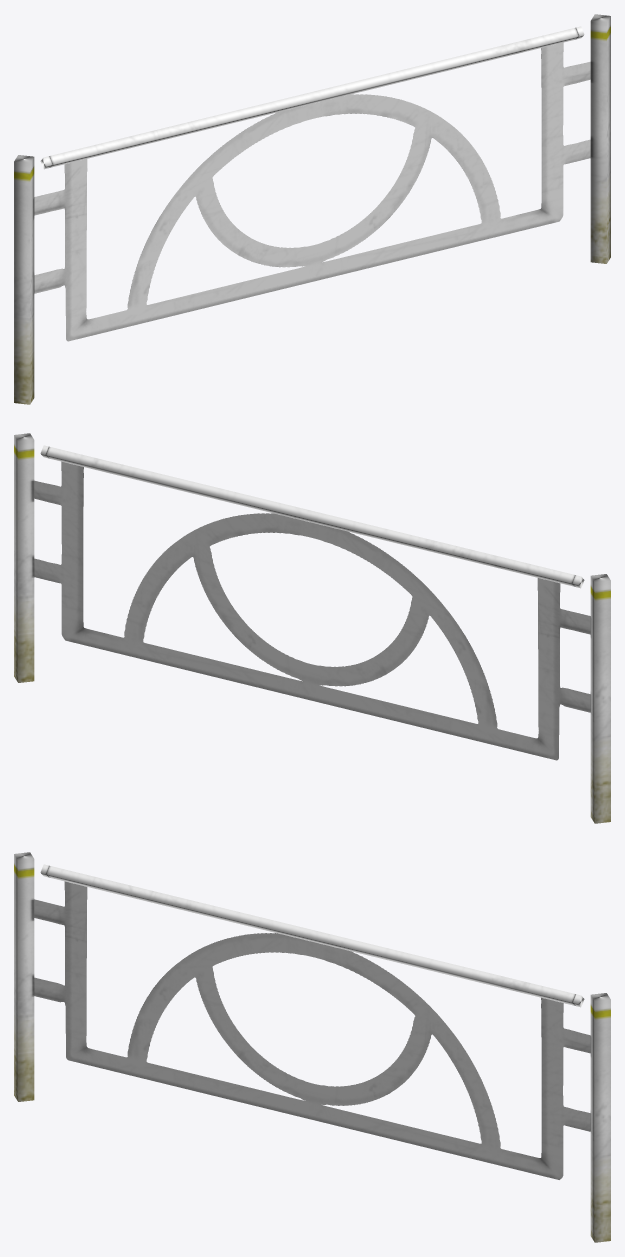
The model's file is guardrail.fbx.
The picture shows the model from 3 angles, top to bottom: view 1: azimuth 30°, elevation 25°; view 2: azimuth 150°, elevation 25°; view 3: azimuth 330°, elevation 25°; orthographic projection.
Visible parts, largest first — view 1: guardrail; view 2: guardrail; view 3: guardrail.
Boxes of the visible parts, <box> form: guardrail: <box>14,14,610,404</box>; guardrail: <box>14,433,610,823</box>; guardrail: <box>14,852,610,1242</box>.
Bounding box in the file's own units: 207 × 80 × 7.07.
Materials: 1 (1 with a texture image).
